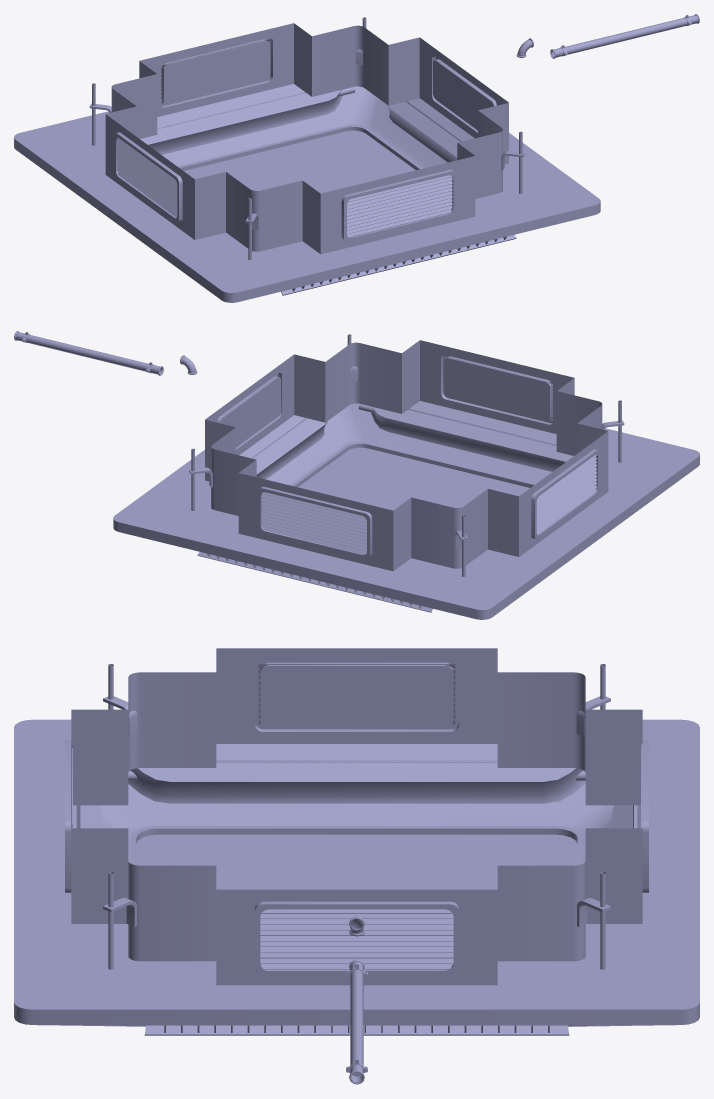
The picture shows the model from 3 angles, top to bottom: view 1: azimuth 30°, elevation 25°; view 2: azimuth 150°, elevation 25°; view 3: azimuth 270°, elevation 25°; orthographic projection. The views are drawn at different scales.
Visible parts, largest first — view 1: AC_1, AC_1_1; view 2: AC_1, AC_1_1; view 3: AC_1, AC_1_1.
Boxes of the visible parts, x1,y1,x2,y2 form: AC_1: (14, 17, 600, 302); AC_1_1: (550, 14, 699, 58); AC_1: (113, 334, 699, 619); AC_1_1: (14, 331, 163, 375); AC_1: (14, 648, 699, 1035); AC_1_1: (346, 959, 367, 1084).
Bounding box in the file's own units: 199 × 38.23 × 130.
